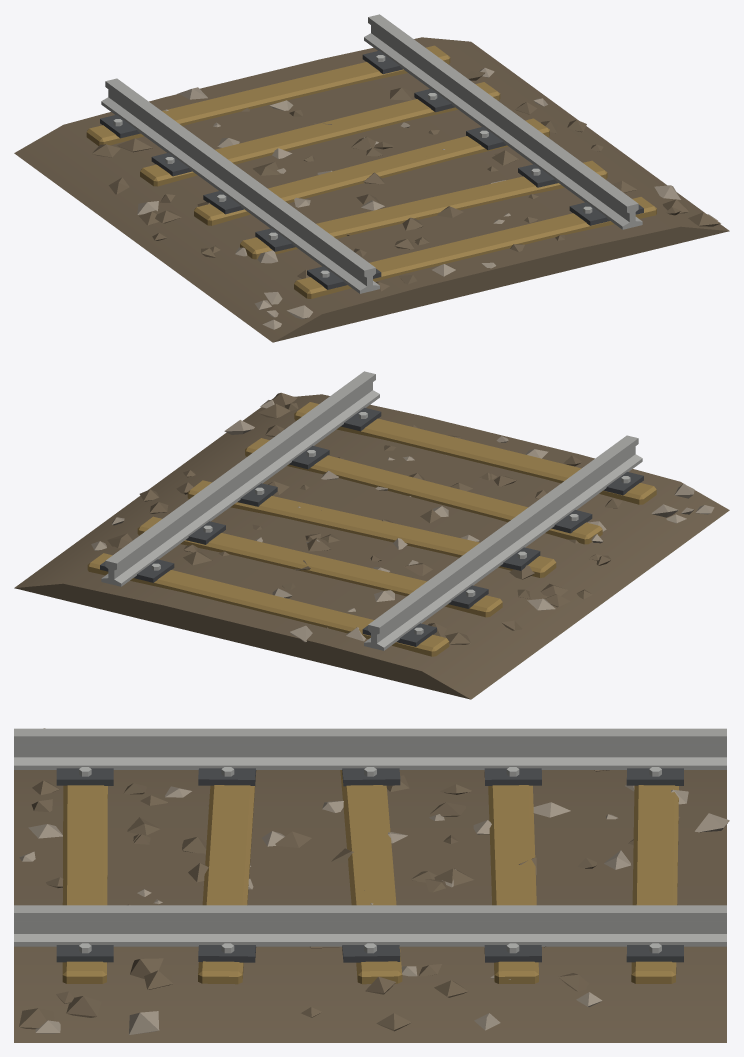
The model's file is straight-rail.glb.
The picture shows the model from 3 angles, top to bottom: view 1: azimuth 30°, elevation 25°; view 2: azimuth 150°, elevation 25°; view 3: azimuth 270°, elevation 25°; orthographic projection. The views are drawn at different scales.
Visible parts, largest first — view 1: body; view 2: body; view 3: body.
Part boxes in pixels (<box>): body: <box>14,14,729,342</box>; body: <box>14,371,729,699</box>; body: <box>14,728,729,1042</box>.
Bounding box in the file's own units: 2.04 × 0.2187 × 2.01.
